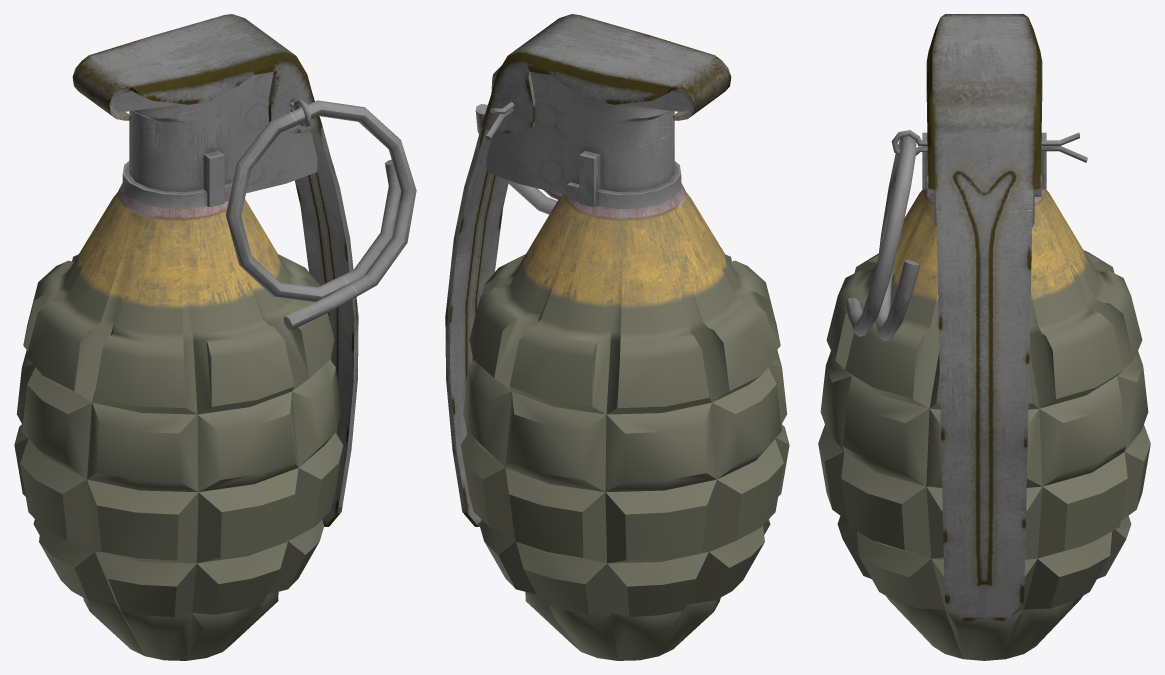
File: granade_game_ready.glb
3 renders of one model, left to right at view 1: azimuth 30°, elevation 25°; view 2: azimuth 150°, elevation 25°; view 3: azimuth 270°, elevation 25°, orthographic.
Visible parts, largest first — view 1: Object_2; view 2: Object_2; view 3: Object_2.
Part boxes in pixels (bbox=[...]): Object_2: bbox=[14, 14, 416, 660]; Object_2: bbox=[445, 14, 789, 660]; Object_2: bbox=[818, 14, 1150, 660].
Size of the model in its own units: 6.7 by 11.42 by 5.84.
Materials: 1 (1 with a texture image).
